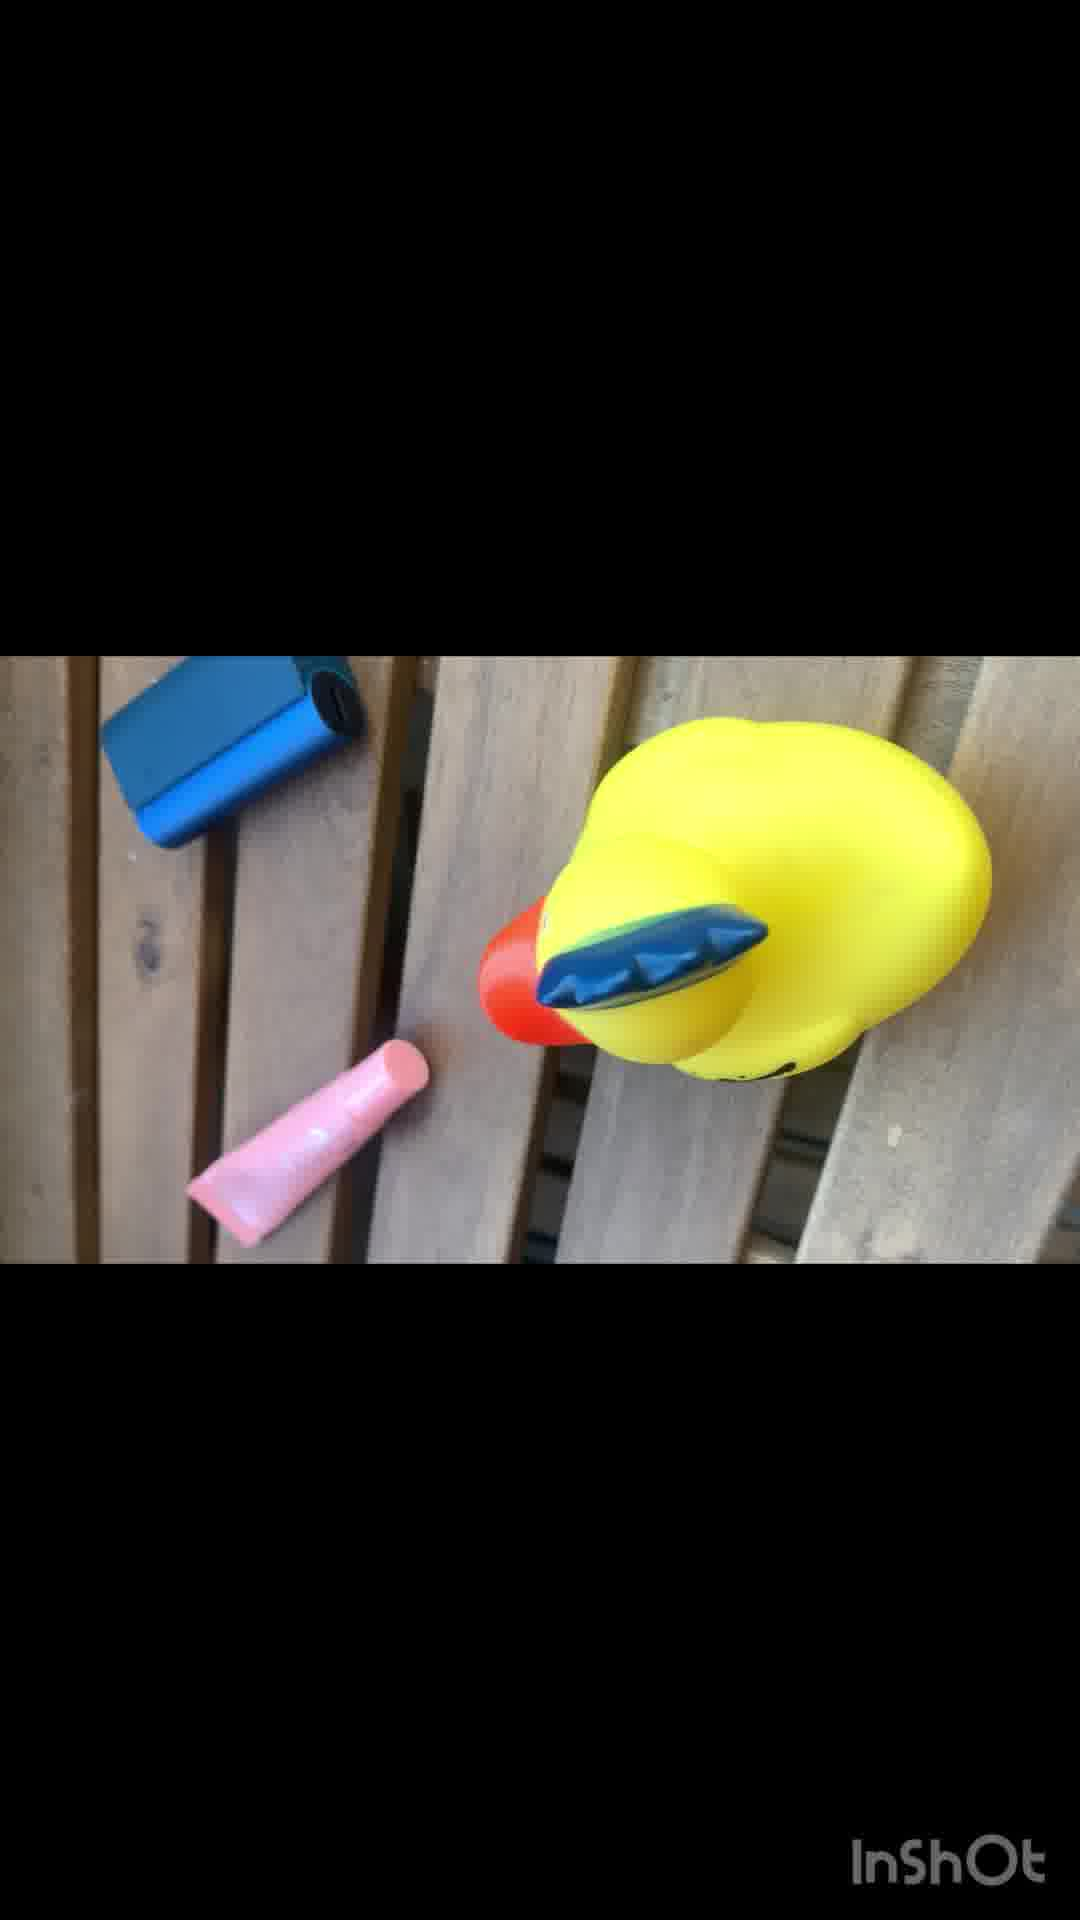duck: (480, 705, 990, 1085)
glo: (108, 657, 359, 862)
lip balm: (190, 1052, 429, 1254)
